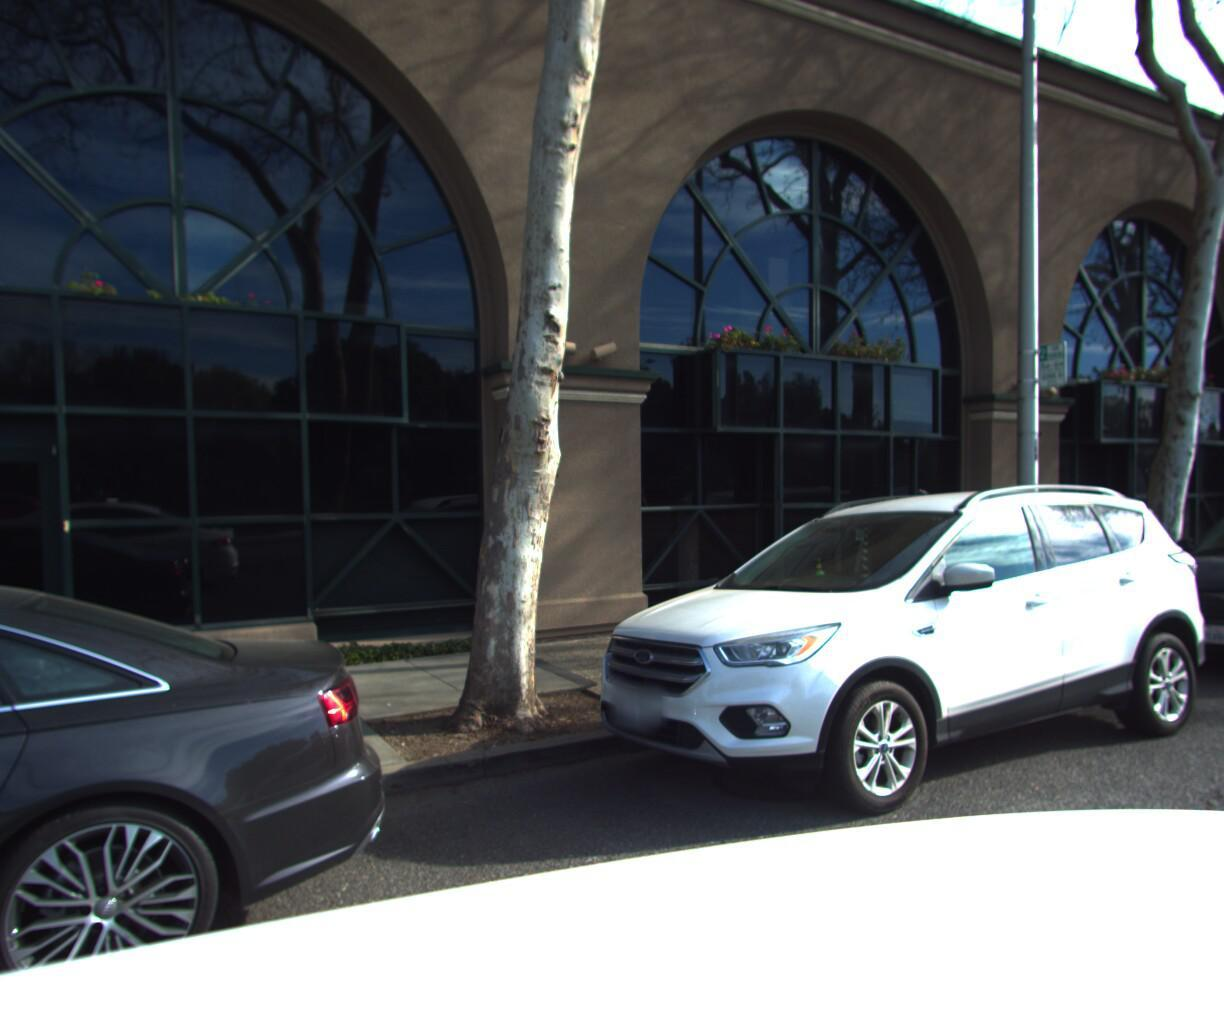car: (534, 473, 1224, 876), (0, 536, 426, 1024), (1107, 471, 1224, 705)
